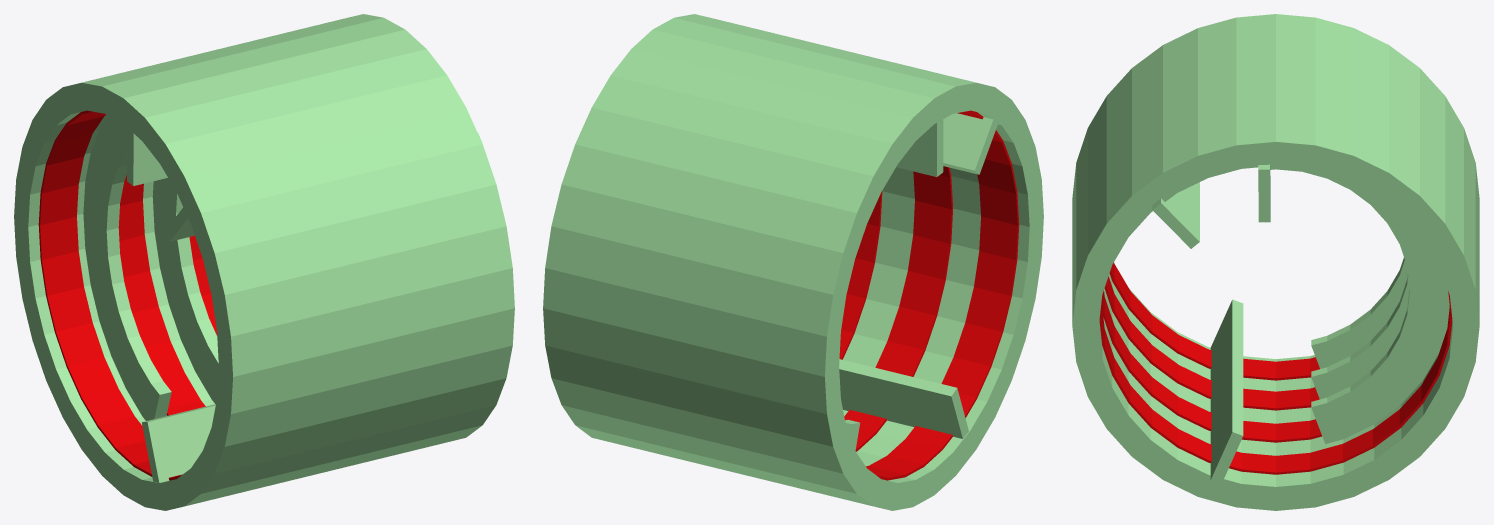
File: barrel_level_2.fbx
The picture shows the model from 3 angles, left to right: view 1: azimuth 30°, elevation 25°; view 2: azimuth 150°, elevation 25°; view 3: azimuth 270°, elevation 25°; orthographic projection. The views are drawn at different scales.
Parts seen in each view (by area): view 1: Barrel_maze_test; view 2: Barrel_maze_test; view 3: Barrel_maze_test.
Boxes of the visible parts, left/top/right/bottom form: Barrel_maze_test: left=14, top=14, right=514, bottom=510; Barrel_maze_test: left=543, top=14, right=1043, bottom=510; Barrel_maze_test: left=1072, top=14, right=1479, bottom=510.
Bounding box in the file's own units: 1229 × 948 × 1229.
